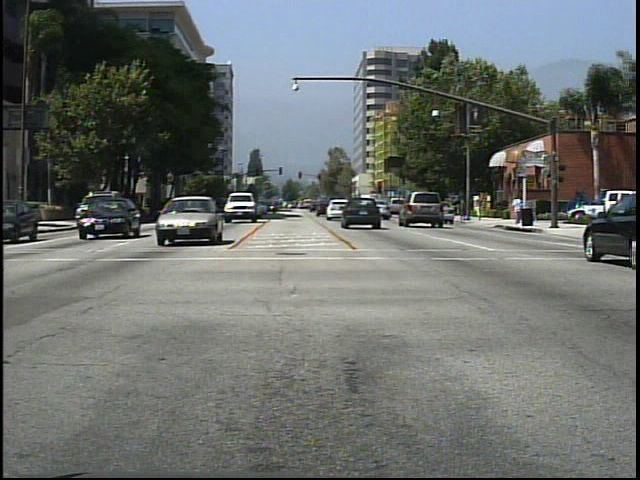person: (509, 192, 524, 229), (472, 193, 485, 224)
